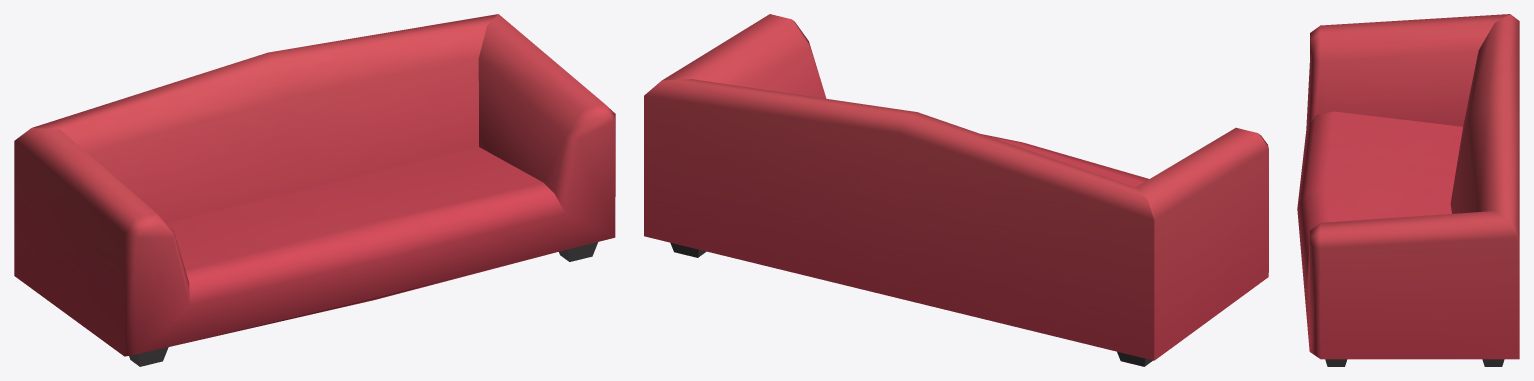
File: SM_Sofa_2_Seat_2_12.fbx
3 views of the same model, side by side, from view 1: azimuth 30°, elevation 25°; view 2: azimuth 150°, elevation 25°; view 3: azimuth 270°, elevation 25° (orthographic). The views are drawn at different scales.
Parts seen in each view (by area): view 1: SM_Sofa_2_Seat_2_12; view 2: SM_Sofa_2_Seat_2_12; view 3: SM_Sofa_2_Seat_2_12.
Part boxes in pixels (x1,y1,x2,y2): SM_Sofa_2_Seat_2_12: [14, 14, 615, 366]; SM_Sofa_2_Seat_2_12: [644, 14, 1268, 366]; SM_Sofa_2_Seat_2_12: [1297, 14, 1519, 366].
Size of the model in its own units: 240 by 87.47 by 104.
